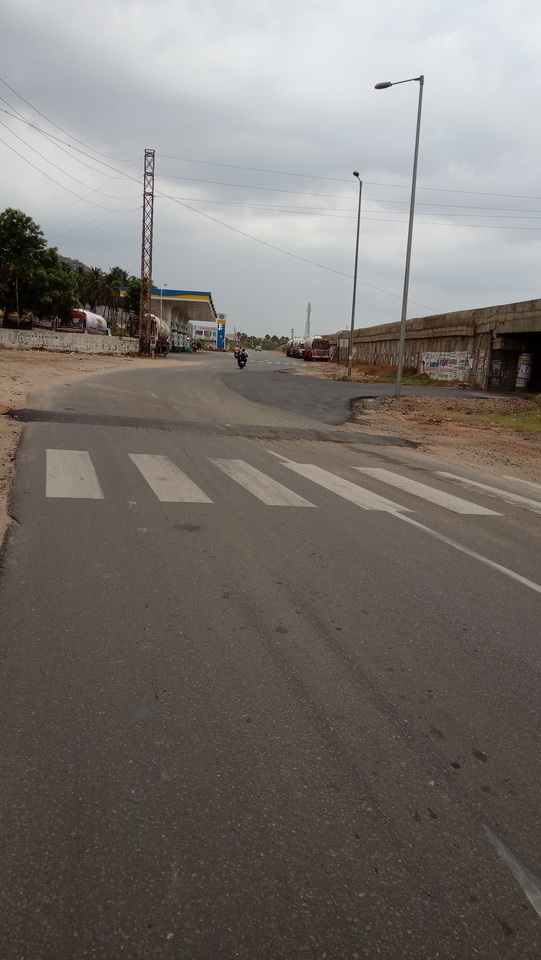bump: (1, 401, 438, 450)
